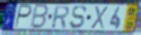4: (108, 6, 122, 31)
B: (29, 3, 50, 30)
P: (14, 3, 33, 29)
R: (51, 5, 70, 29)
S: (69, 5, 88, 30)
X: (90, 5, 109, 30)
